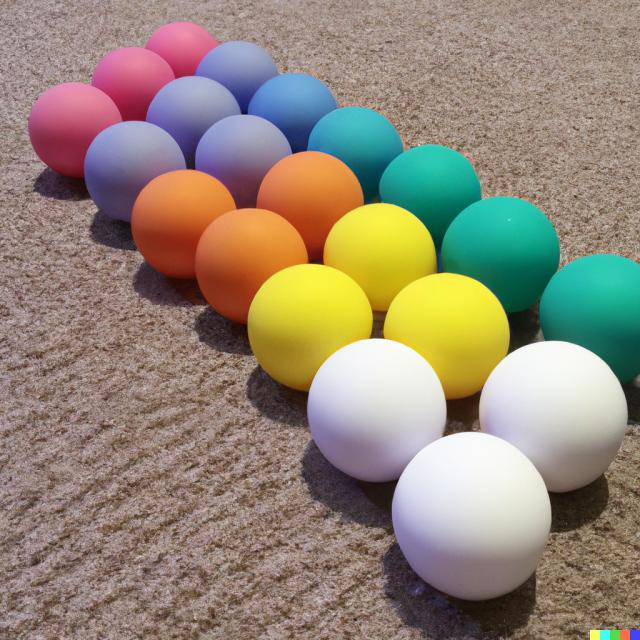orange: (196, 209, 307, 322), (132, 170, 236, 278)
white: (392, 432, 552, 600), (478, 341, 630, 494), (308, 338, 448, 482)
